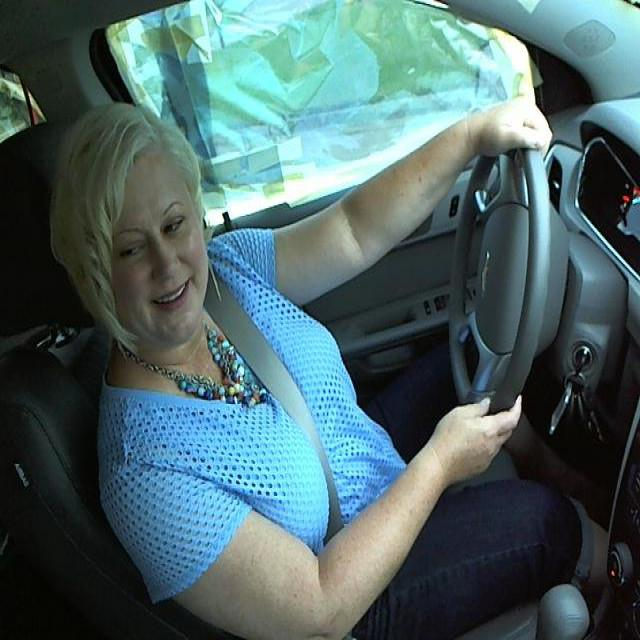seatbelt: (211, 300, 363, 525)
